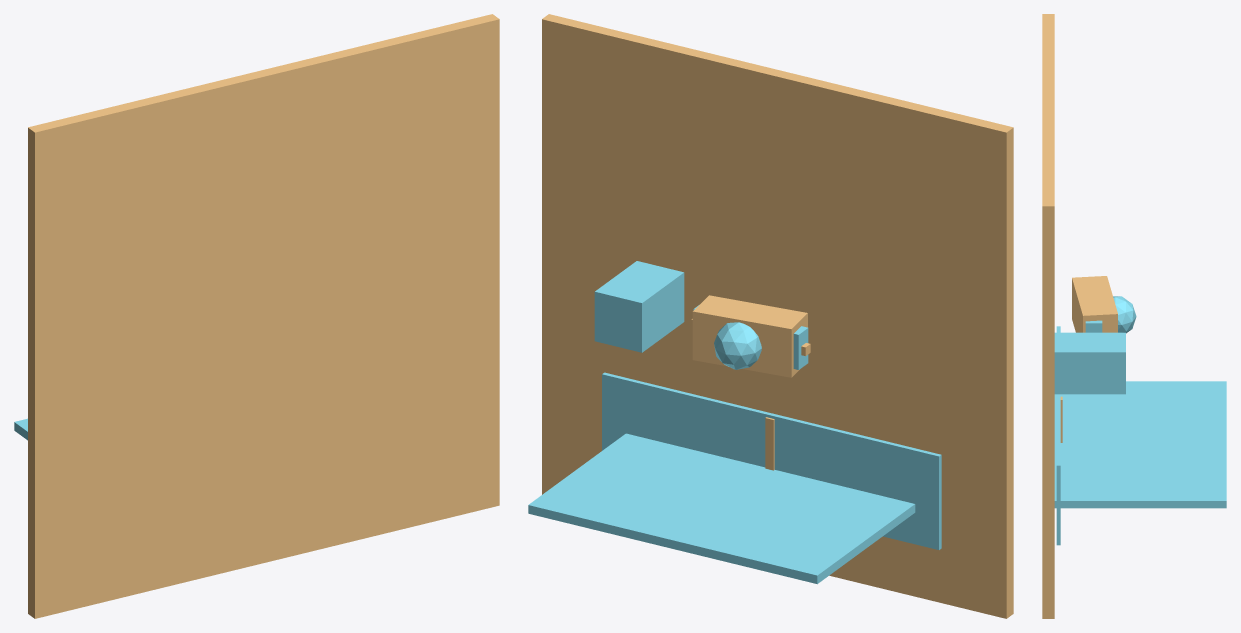
Rendered from superbike-circuit-kit.glb.
3 views of the same model, side by side, from view 1: azimuth 30°, elevation 25°; view 2: azimuth 150°, elevation 25°; view 3: azimuth 270°, elevation 25° (orthographic). The views are drawn at different scales.
Parts seen in each view (by area): view 1: ENVIRONMENT_GROUND; view 2: ENVIRONMENT_GROUND, ENVIRONMENT_GATE, PROFILE_ENVIRONMENT_DETAIL, PROFILE_OBSTACLE_DETAIL, PLAYER_BODY, PLAYER_CORE; view 3: ENVIRONMENT_GATE, ENVIRONMENT_GROUND, PROFILE_OBSTACLE_DETAIL, PLAYER_BODY, PROFILE_ENVIRONMENT_DETAIL, PLAYER_CORE.
Boxes of the visible parts, x1,y1,x2,y2 form: ENVIRONMENT_GROUND: [28, 14, 499, 618]; ENVIRONMENT_GROUND: [542, 14, 1013, 618]; ENVIRONMENT_GATE: [528, 433, 915, 584]; PROFILE_ENVIRONMENT_DETAIL: [602, 372, 941, 549]; PROFILE_OBSTACLE_DETAIL: [594, 261, 684, 352]; PLAYER_BODY: [692, 295, 807, 377]; PLAYER_CORE: [714, 322, 761, 369]; ENVIRONMENT_GATE: [1054, 381, 1226, 508]; ENVIRONMENT_GROUND: [1042, 14, 1054, 618]; PROFILE_OBSTACLE_DETAIL: [1054, 332, 1125, 394]; PLAYER_BODY: [1072, 276, 1117, 332]; PROFILE_ENVIRONMENT_DETAIL: [1056, 326, 1060, 545]; PLAYER_CORE: [1113, 296, 1136, 333].
Size of what is drawn, in the model's own units: 9 by 9 by 3.64.
